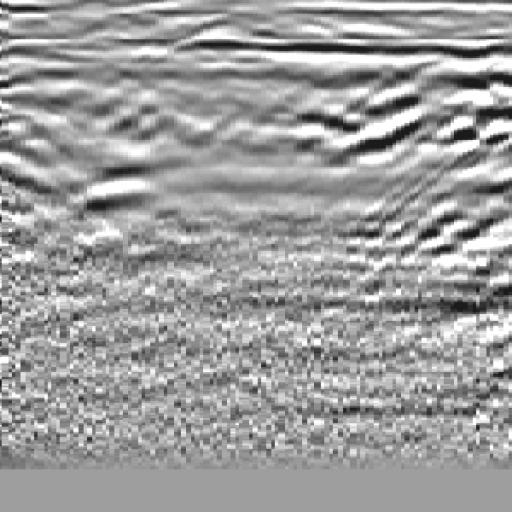metalic: (50, 37, 219, 280)
nonmetalic: (387, 27, 512, 283)
